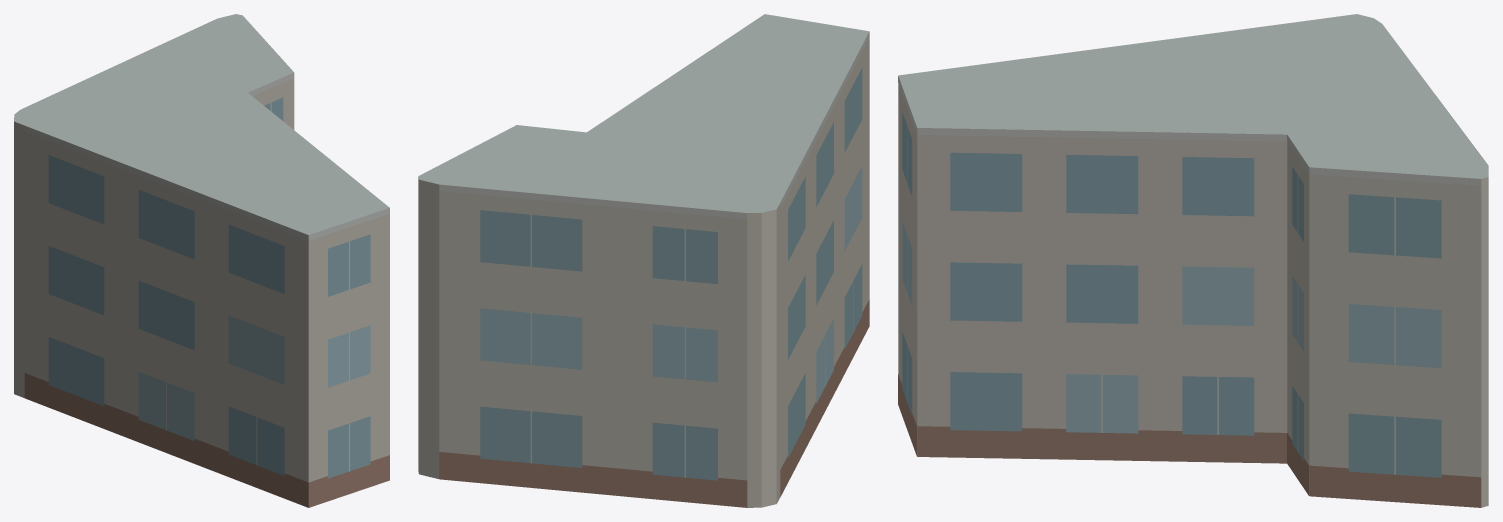
The model's file is survey-upis-32492390.glb.
The picture shows the model from 3 angles, left to right: view 1: azimuth 30°, elevation 25°; view 2: azimuth 150°, elevation 25°; view 3: azimuth 270°, elevation 25°; orthographic projection. The views are drawn at different scales.
Visible parts, largest first — view 1: survey-upis-32492390.tmp; view 2: survey-upis-32492390.tmp; view 3: survey-upis-32492390.tmp.
Part boxes in pixels (left/top/right/bottom): survey-upis-32492390.tmp: left=14, top=14, right=389, bottom=507; survey-upis-32492390.tmp: left=418, top=14, right=869, bottom=507; survey-upis-32492390.tmp: left=898, top=14, right=1488, bottom=507.
Size of the model in its own units: 12.36 by 11.49 by 18.71.
